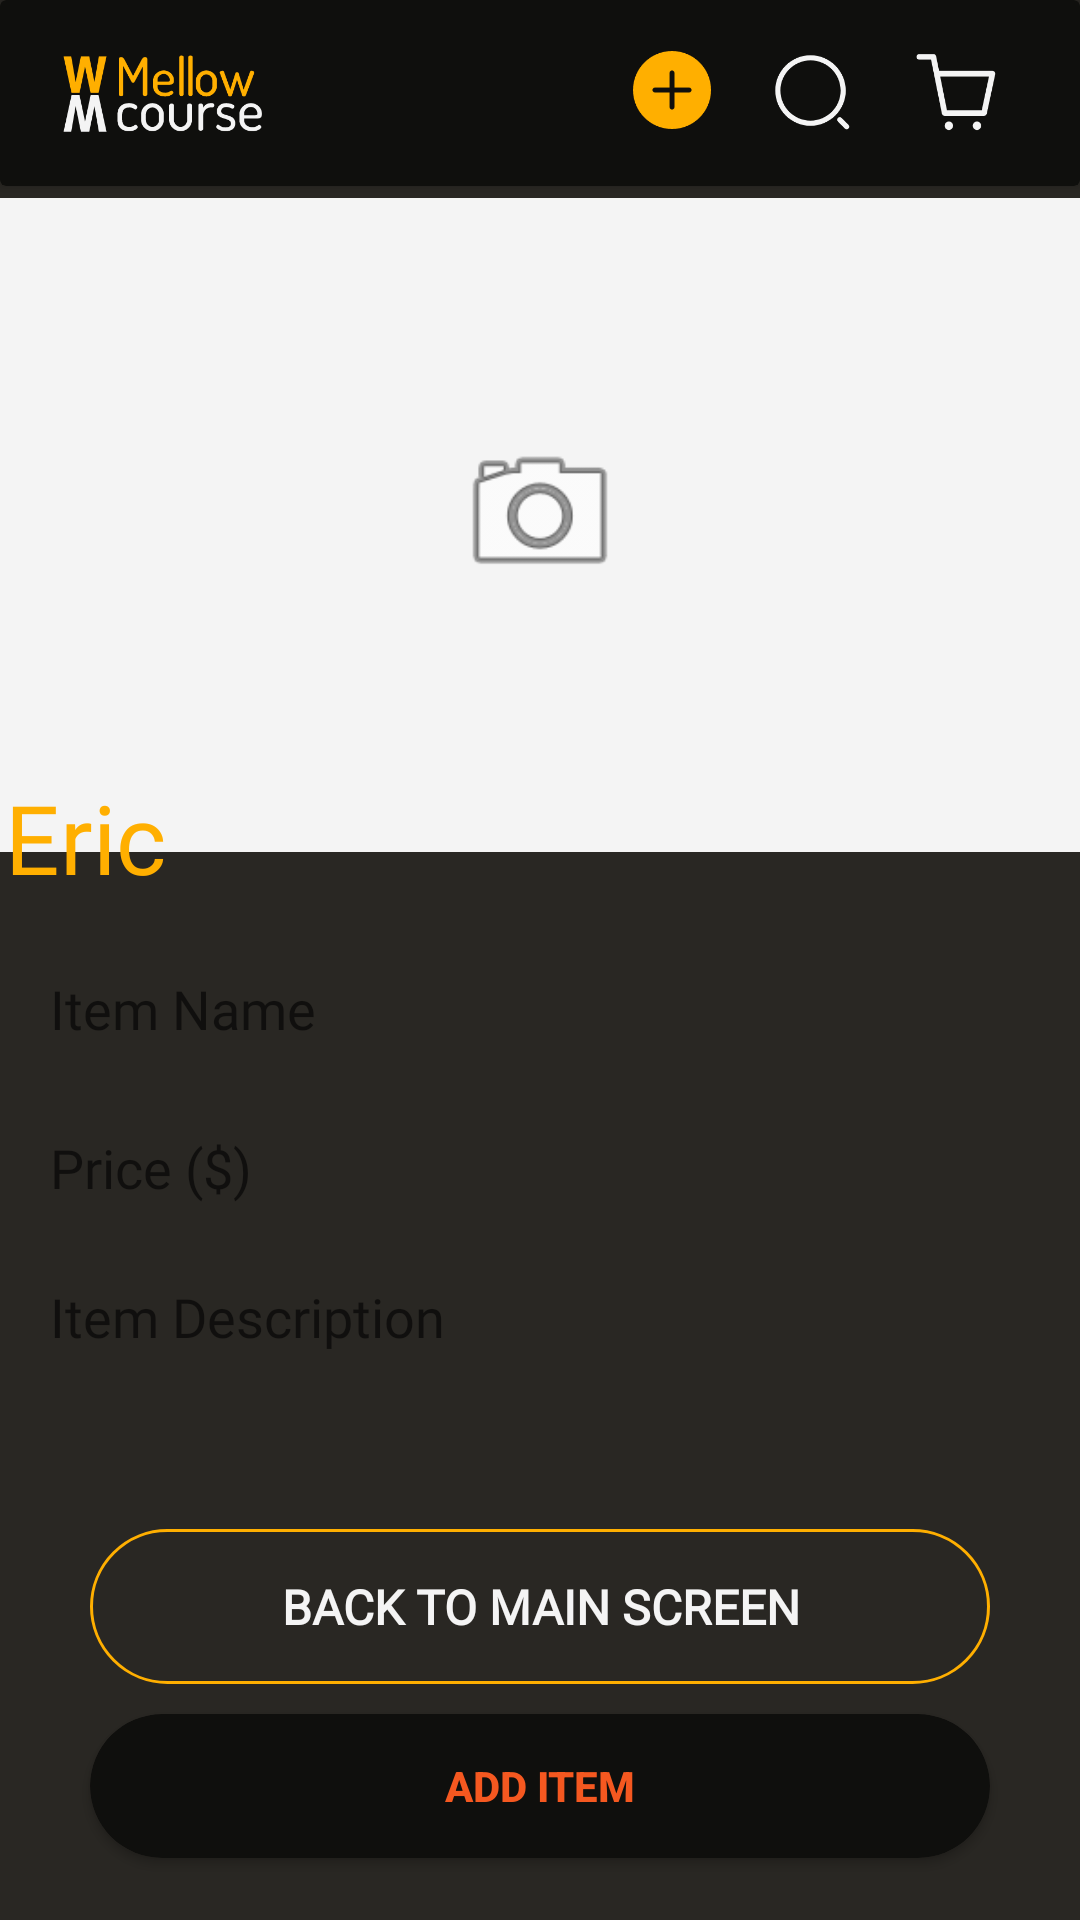

Screen size 1080x1920. Icon name, then its center in pixels as (x,y):
add sign: (672,90)
camera: (540,510)
search: (812,92)
